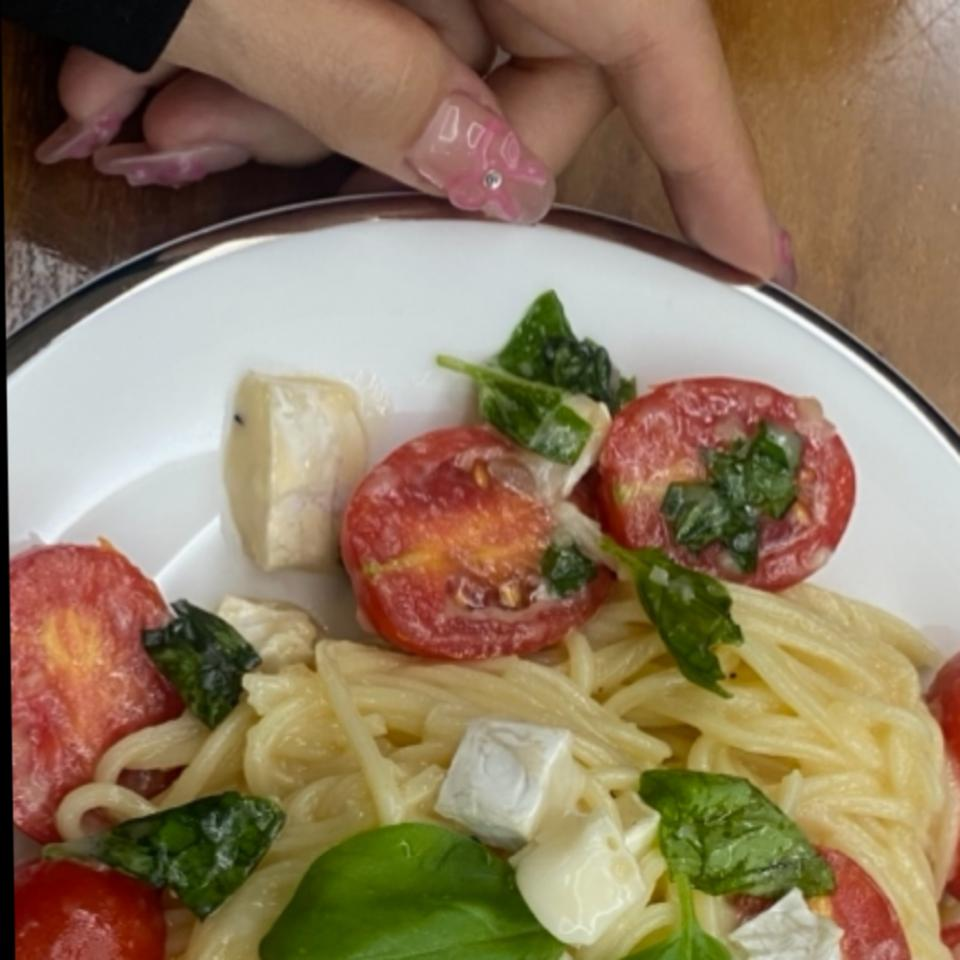nail: (402, 90, 558, 224), (92, 139, 252, 189)
